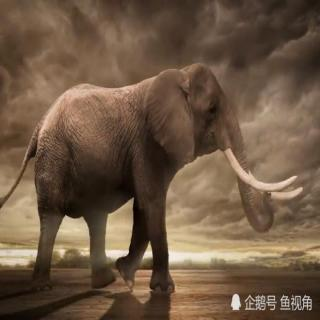Elephant: (1, 57, 311, 296)
